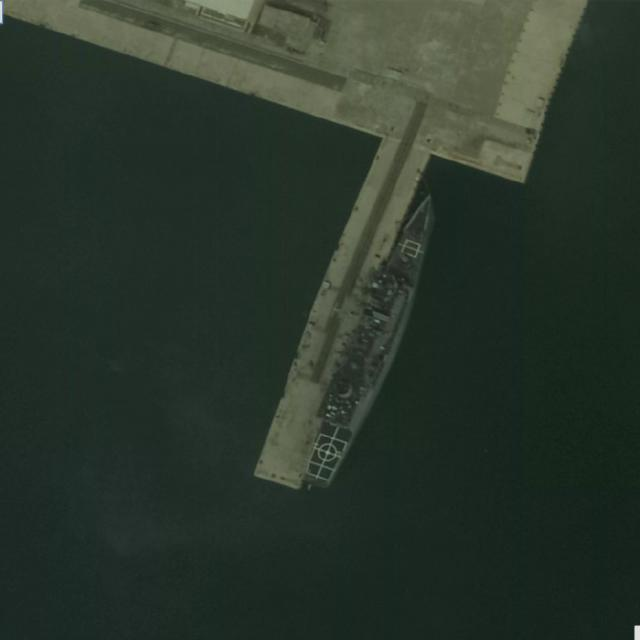Dock: (248, 138, 431, 490)
Frigate: (300, 186, 447, 487)
